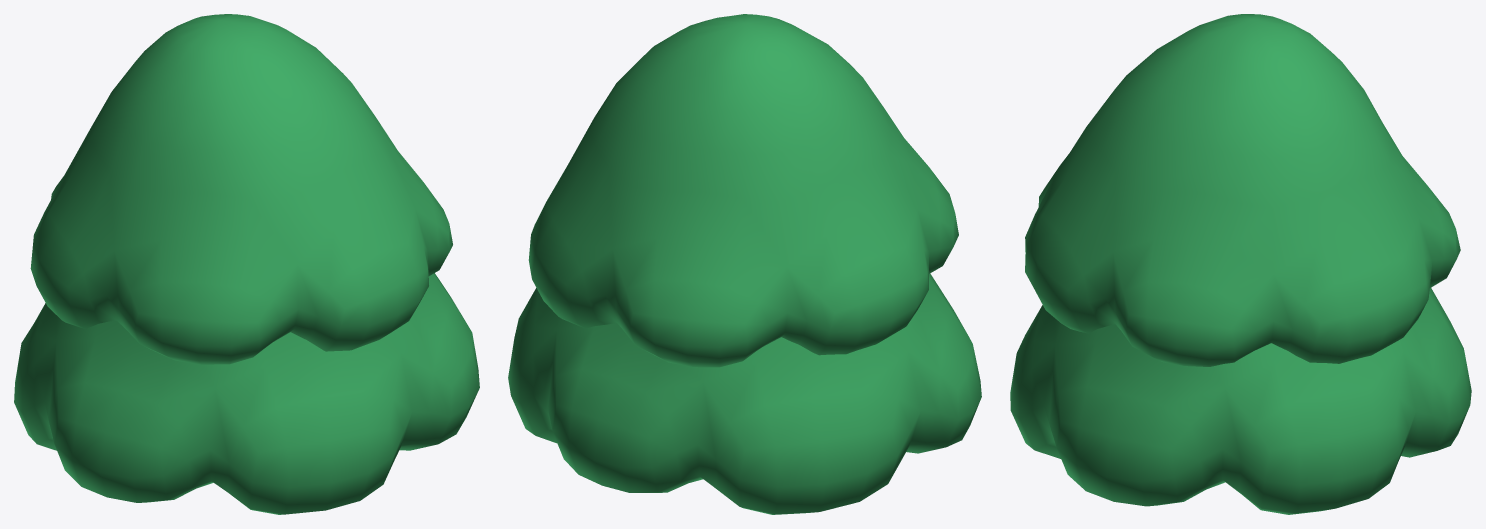
Rendered from Bush_C_01.fbx.
The picture shows the model from 3 angles, left to right: view 1: azimuth 30°, elevation 25°; view 2: azimuth 150°, elevation 25°; view 3: azimuth 270°, elevation 25°; orthographic projection.
Visible parts, largest first — view 1: Bush_C_01_LOD0; view 2: Bush_C_01_LOD0; view 3: Bush_C_01_LOD0.
Boxes of the visible parts, x1,y1,x2,y2 form: Bush_C_01_LOD0: (14, 14, 479, 514); Bush_C_01_LOD0: (508, 14, 981, 514); Bush_C_01_LOD0: (1010, 14, 1471, 514).
Size of what is drawn, in the model's own units: 475 by 482 by 473.
